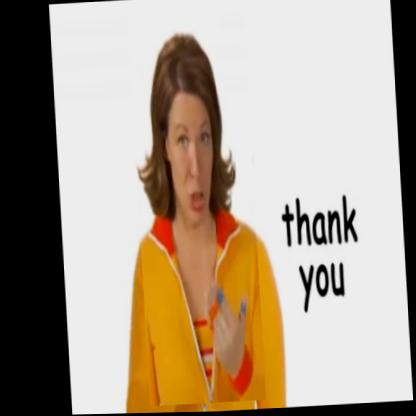ThankYou: (128, 7, 265, 407)
